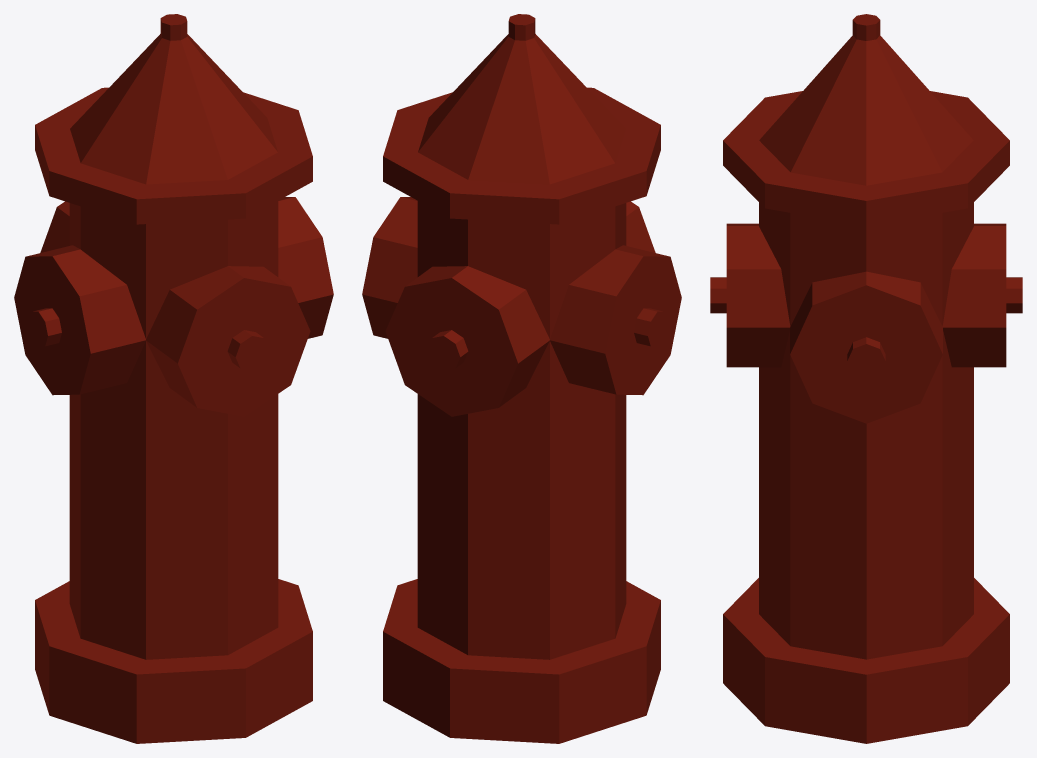
The model's file is Hydrent.fbx.
3 views of the same model, side by side, from view 1: azimuth 30°, elevation 25°; view 2: azimuth 150°, elevation 25°; view 3: azimuth 270°, elevation 25° (orthographic).
Parts seen in each view (by area): view 1: Hydrent; view 2: Hydrent; view 3: Hydrent.
Boxes of the visible parts, bbox=[...] form: Hydrent: bbox=[14, 14, 333, 743]; Hydrent: bbox=[362, 14, 681, 743]; Hydrent: bbox=[710, 14, 1022, 743].
Bounding box in the file's own units: 43.5 × 102 × 43.5.
